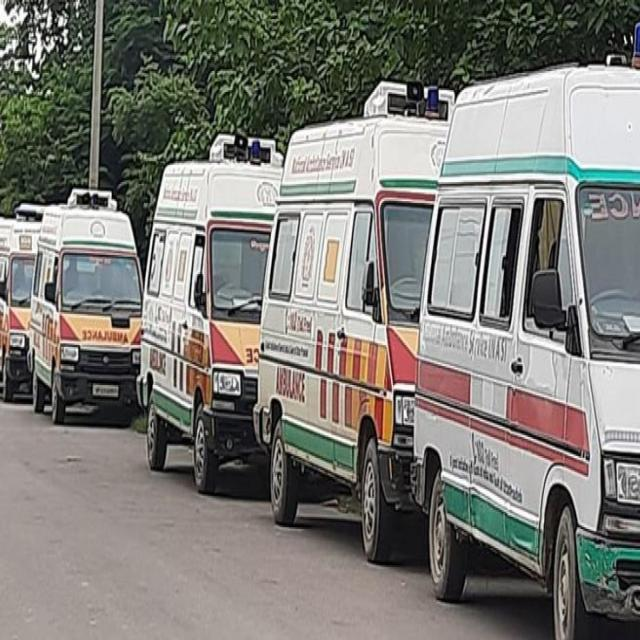ambulance: (415, 66, 640, 640), (256, 81, 459, 552), (142, 134, 280, 492), (32, 190, 144, 423), (0, 202, 42, 399)
